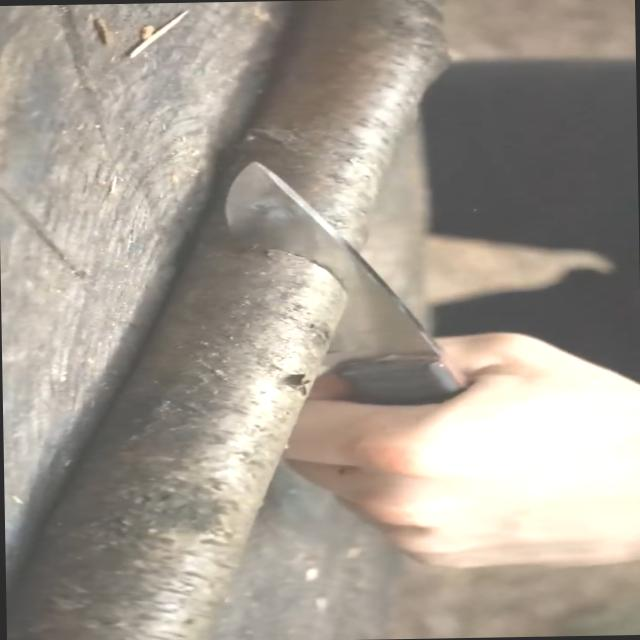knife: (202, 143, 513, 448)
